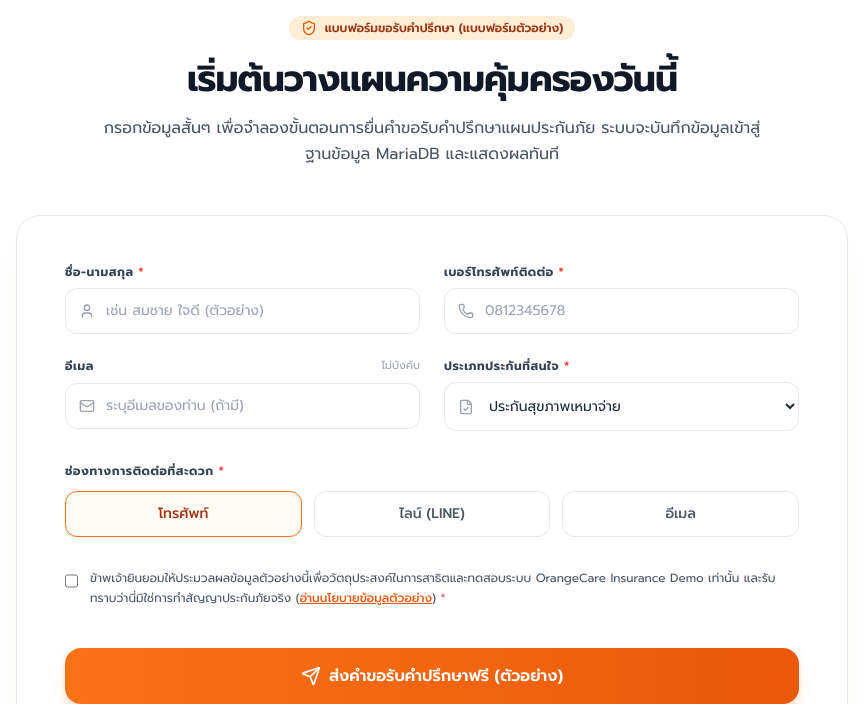
Scenario: Frontend Component Tests › LeadForm validates required fields before submitting
// Click submit without entering values
Click the button "ส่งคำขอรับคำปรึกษาฟรี (ตัวอย่าง)". click: (432, 676)
box: [65,648,799,703]
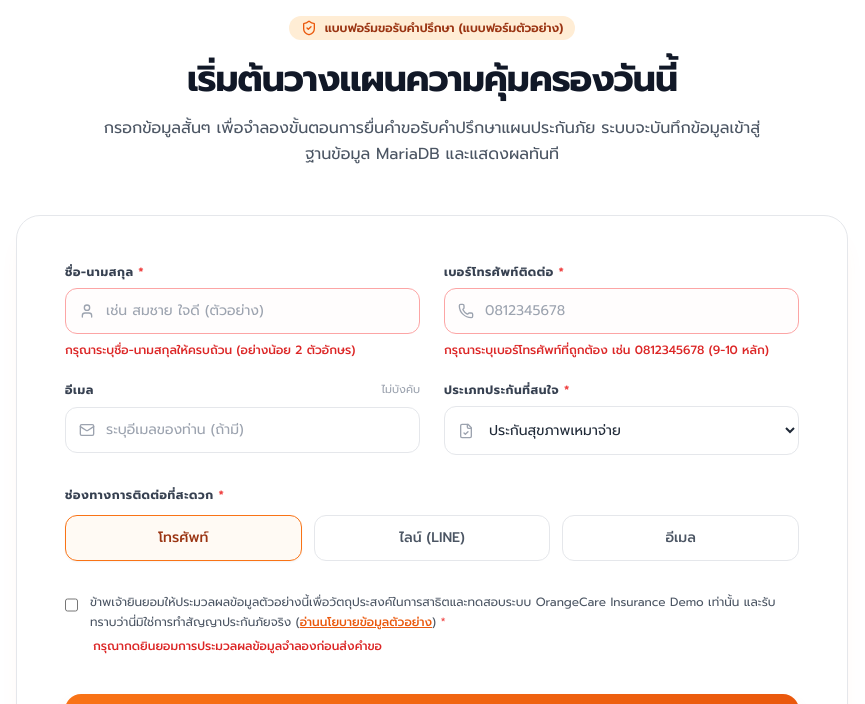
Now the text "กรุณาระบุชื่อ-นามสกุลให้ครบถ้วน (อย่างน้อย 2 ตัวอักษร)" is shown, box [65,341,355,359]
